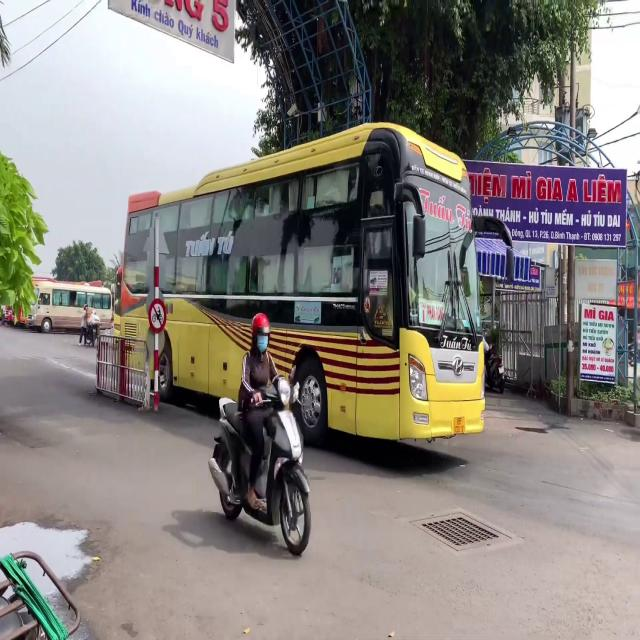bien_vang: (452, 416, 465, 436)
